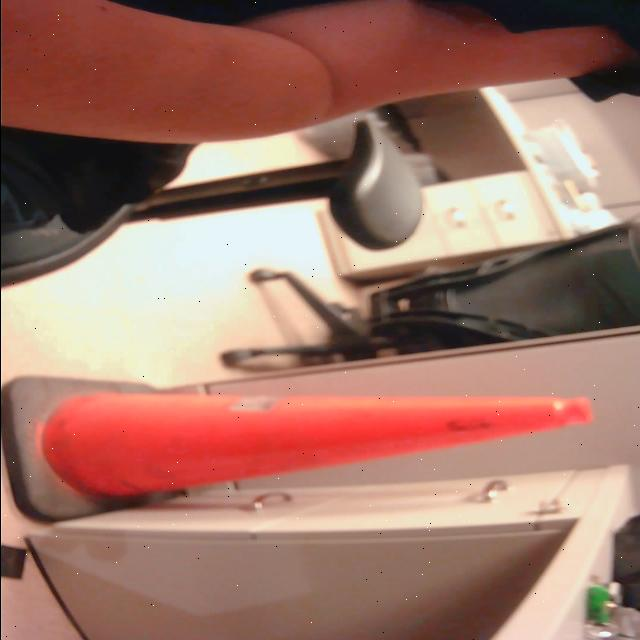traffic cone: (1, 373, 599, 529)
